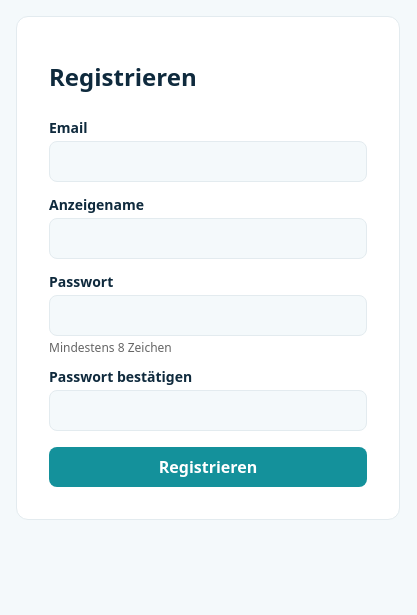
Test case: RegisterPage › shows a generic error on server failure
The width and height of the screenshot is (417, 615).
Type "new@test.de" into the field labelled "Email" at (208, 162), box [49,141,367,182]
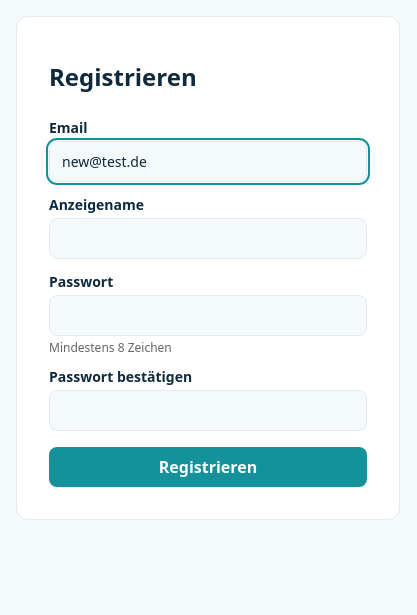
Type "Test" into the field labelled "Anzeigename" at (208, 239), box [49,218,367,259]
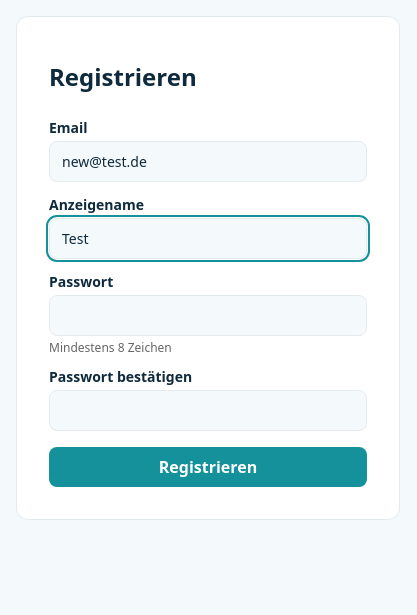
Type "Test1234!" into the password field labelled "Passwort" at (208, 316), box [49,295,367,336]
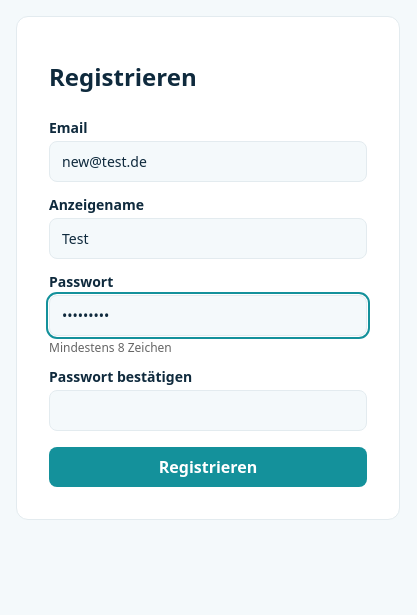
Type "Test1234!" into the password field labelled "Passwort bestätigen" at (208, 411), box [49,390,367,431]
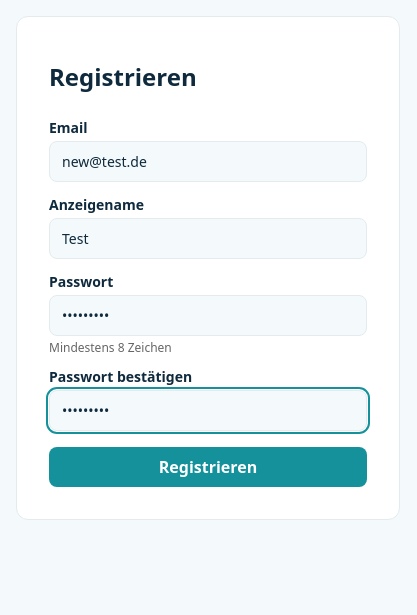
Click the button "Registrieren" at (208, 467), box [49,447,367,487]
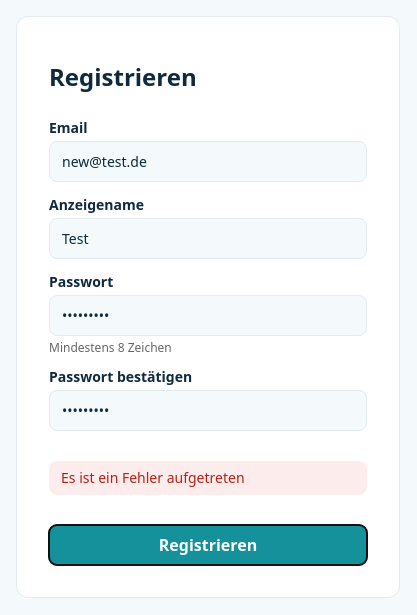
Expected: the message shows "Fehler aufgetreten", [61,468,245,487]
